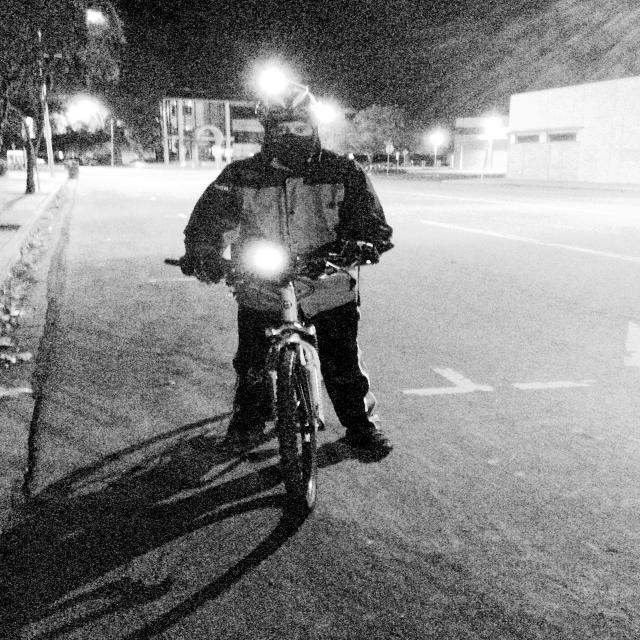Bicycle: (197, 250, 421, 524)
Person: (189, 58, 401, 346)
